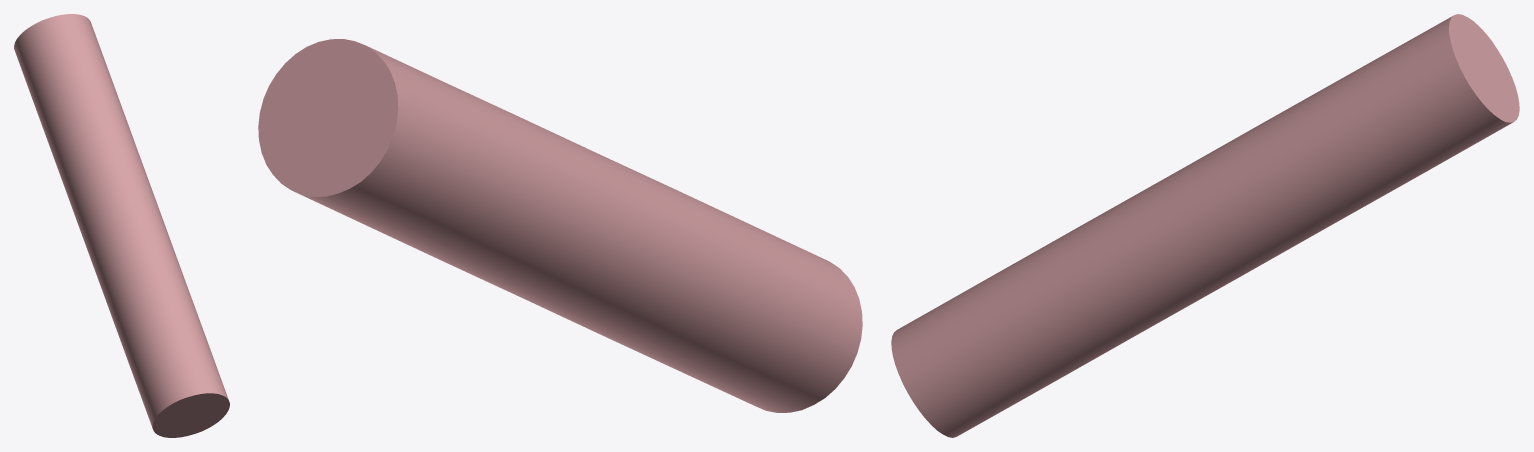
Rendered from fma59050_mm839.glb.
3 renders of one model, left to right at view 1: azimuth 30°, elevation 25°; view 2: azimuth 150°, elevation 25°; view 3: azimuth 270°, elevation 25°, orthographic. The views are drawn at different scales.
Parts seen in each view (by area): view 1: FMA59050_MM839; view 2: FMA59050_MM839; view 3: FMA59050_MM839.
Boxes of the visible parts, x1,y1,x2,y2 form: FMA59050_MM839: (14, 14, 229, 437); FMA59050_MM839: (258, 39, 862, 412); FMA59050_MM839: (891, 14, 1519, 437).
Bounding box in the file's own units: 0.00624 × 0.015 × 0.0193.
